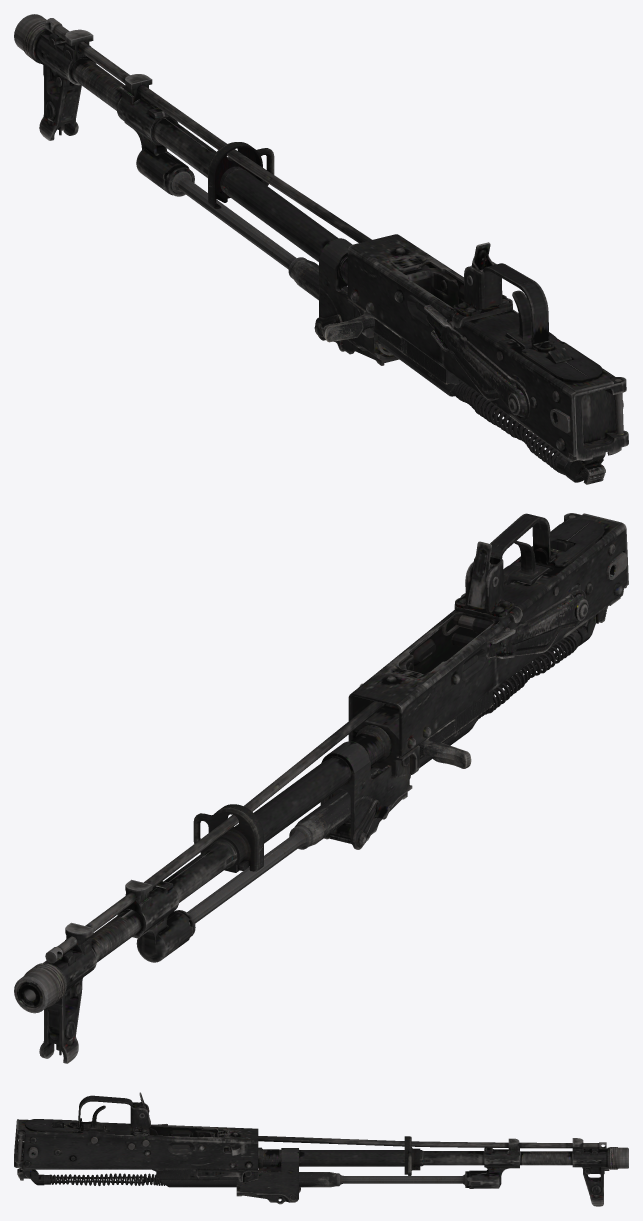
3 renders of one model, top to bottom at view 1: azimuth 30°, elevation 25°; view 2: azimuth 150°, elevation 25°; view 3: azimuth 270°, elevation 25°, orthographic. The views are drawn at different scales.
Visible parts, largest first — view 1: TW_5bf3e0490db83400196199af_PZ_Import; view 2: TW_5bf3e0490db83400196199af_PZ_Import; view 3: TW_5bf3e0490db83400196199af_PZ_Import.
Part boxes in pixels (box(x1,y1,x2,y2)): TW_5bf3e0490db83400196199af_PZ_Import: box(14, 14, 628, 484); TW_5bf3e0490db83400196199af_PZ_Import: box(14, 513, 628, 1063); TW_5bf3e0490db83400196199af_PZ_Import: box(14, 1092, 628, 1206).
Size of the model in its own units: 0.0424 by 0.373 by 0.0735.
Materials: 1 (1 with a texture image).
